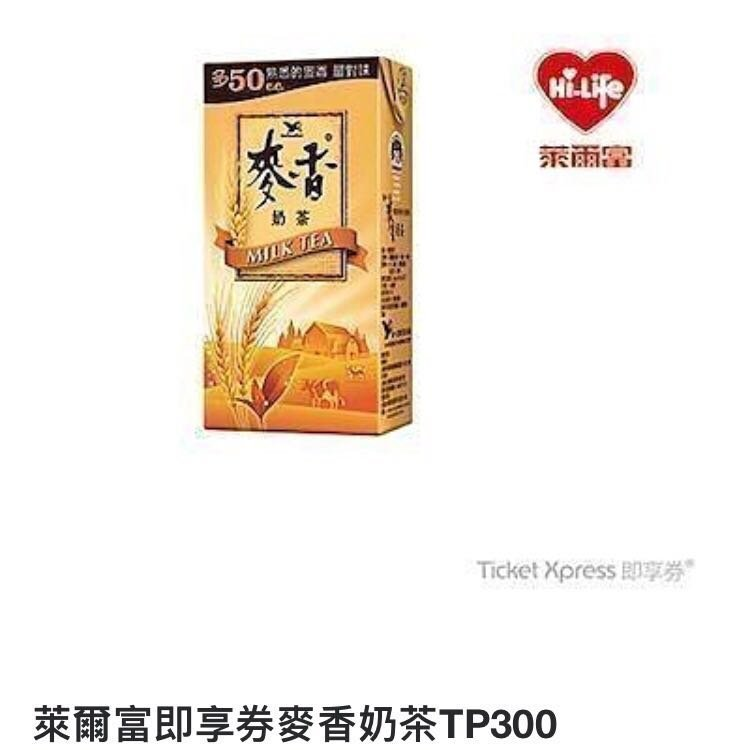milk tea: (200, 53, 415, 436)
